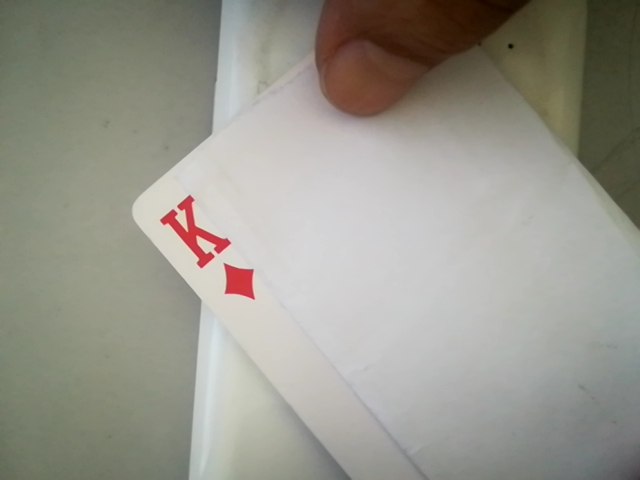fk k: (156, 189, 267, 304)
